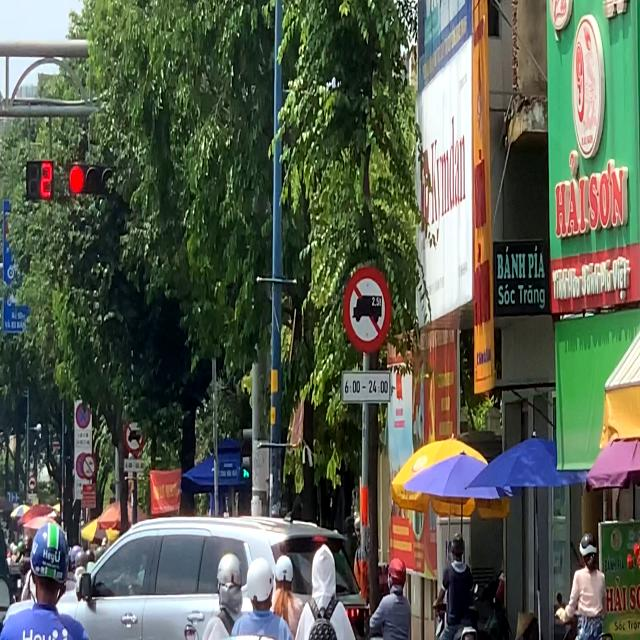P.106b: (345, 268, 392, 349)
